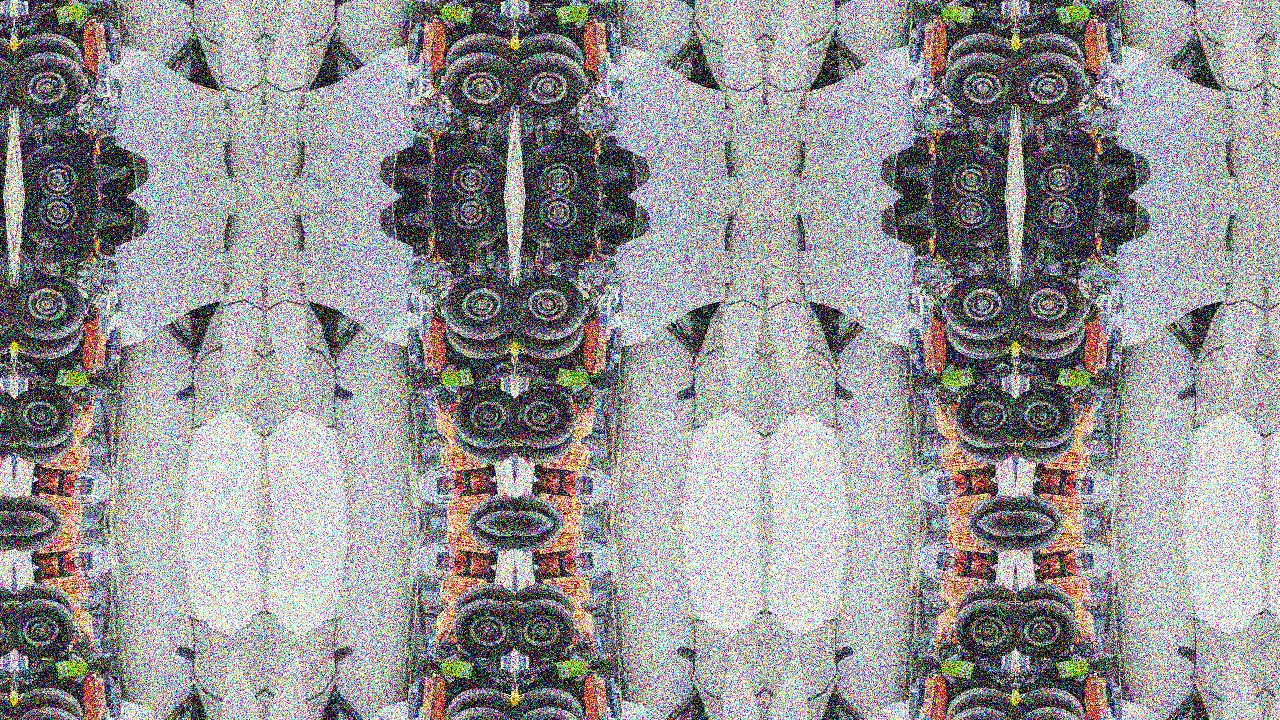chock: (13, 33, 21, 52), (507, 33, 515, 52), (1008, 33, 1016, 52), (1016, 33, 1024, 52), (13, 340, 21, 359), (507, 340, 515, 359), (1008, 340, 1016, 359), (1016, 340, 1024, 359), (13, 689, 21, 708), (507, 689, 515, 708), (1008, 689, 1016, 708), (1016, 689, 1024, 708), (6, 33, 13, 52), (515, 33, 522, 52), (6, 340, 13, 359), (515, 340, 522, 359), (6, 689, 13, 708), (515, 689, 522, 708)
wheel: (13, 45, 89, 121), (439, 45, 515, 121), (515, 45, 591, 121), (940, 45, 1016, 121), (1016, 45, 1092, 121), (13, 271, 89, 347), (439, 271, 515, 347), (515, 271, 591, 347), (940, 271, 1016, 347), (1016, 271, 1092, 347), (13, 385, 79, 452), (449, 385, 515, 452), (950, 385, 1016, 452), (1016, 385, 1082, 452), (13, 595, 79, 662), (449, 595, 515, 662), (950, 595, 1016, 662), (1016, 595, 1082, 662), (515, 385, 580, 452), (515, 595, 580, 662), (13, 27, 85, 84), (443, 27, 515, 84), (515, 27, 587, 84), (944, 27, 1016, 84), (1016, 27, 1088, 84), (13, 308, 85, 365), (443, 308, 515, 365), (515, 308, 587, 365), (944, 308, 1016, 365), (1016, 308, 1088, 365), (19, 123, 95, 170), (433, 123, 509, 170), (520, 123, 596, 170), (934, 123, 1010, 170), (1022, 123, 1098, 170), (19, 222, 95, 269), (433, 222, 509, 269), (520, 222, 596, 269), (934, 222, 1010, 269), (1022, 222, 1098, 269), (21, 137, 96, 183), (432, 137, 507, 183), (522, 137, 597, 183), (933, 137, 1008, 183), (1024, 137, 1099, 183), (21, 209, 96, 255), (432, 209, 507, 255), (522, 209, 597, 255), (933, 209, 1008, 255), (1024, 209, 1099, 255), (13, 421, 75, 468), (453, 421, 515, 468), (13, 579, 75, 626), (453, 579, 515, 626), (515, 421, 576, 468), (955, 421, 1016, 468), (1016, 421, 1077, 468), (515, 579, 576, 626), (955, 579, 1016, 626), (1016, 579, 1077, 626), (13, 682, 85, 720), (443, 682, 515, 720), (515, 682, 587, 720), (944, 682, 1016, 720), (1016, 682, 1088, 720), (13, 492, 66, 524), (462, 492, 515, 524), (963, 492, 1016, 524), (1016, 492, 1069, 524), (515, 492, 567, 524), (13, 524, 66, 555), (462, 524, 515, 555), (963, 524, 1016, 555), (1016, 524, 1069, 555), (515, 524, 567, 555), (527, 175, 602, 196), (929, 175, 1004, 196), (1028, 175, 1103, 196), (527, 196, 602, 217), (929, 196, 1004, 217), (1028, 196, 1103, 217), (26, 175, 100, 196), (428, 175, 502, 196), (26, 196, 100, 217), (428, 196, 502, 217), (13, 700, 89, 720), (439, 700, 515, 720), (515, 700, 591, 720), (940, 700, 1016, 720), (1016, 700, 1092, 720), (0, 45, 13, 121), (0, 271, 13, 347), (0, 385, 13, 452), (0, 595, 13, 662), (0, 27, 13, 84), (0, 308, 13, 365), (0, 421, 13, 468), (0, 579, 13, 626), (0, 682, 13, 720), (13, 0, 79, 7), (449, 0, 515, 7), (950, 0, 1016, 7), (1016, 0, 1082, 7), (515, 0, 580, 7), (973, 463, 997, 481), (1035, 463, 1059, 481), (30, 549, 54, 567), (474, 549, 498, 567), (973, 566, 997, 584), (975, 549, 999, 567), (1035, 566, 1059, 584), (1033, 549, 1057, 567), (0, 492, 13, 524), (33, 463, 56, 481), (472, 463, 495, 481), (534, 463, 557, 481), (33, 566, 56, 584), (472, 566, 495, 584), (534, 566, 557, 584), (532, 549, 555, 567), (80, 66, 97, 90), (431, 66, 448, 90), (582, 66, 599, 90), (932, 66, 949, 90), (1083, 66, 1100, 90), (80, 302, 97, 326), (30, 481, 54, 498), (431, 302, 448, 326), (474, 481, 498, 498), (582, 302, 599, 326), (932, 302, 949, 326), (975, 481, 999, 498), (1083, 302, 1100, 326), (1033, 481, 1057, 498), (0, 524, 13, 555), (532, 481, 555, 498), (0, 123, 8, 170), (0, 222, 8, 269), (0, 137, 6, 183), (0, 209, 6, 255)
